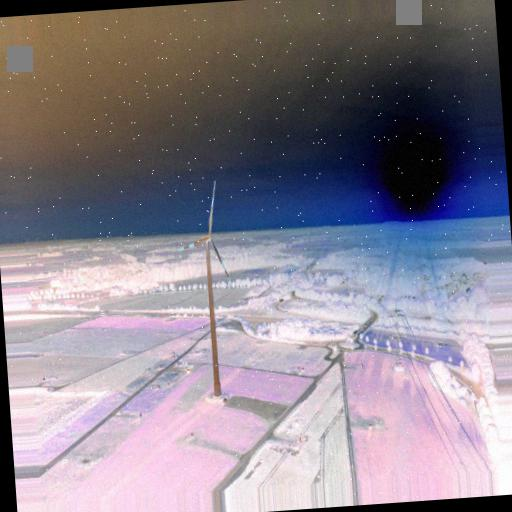wind turbine: (193, 177, 231, 393)
